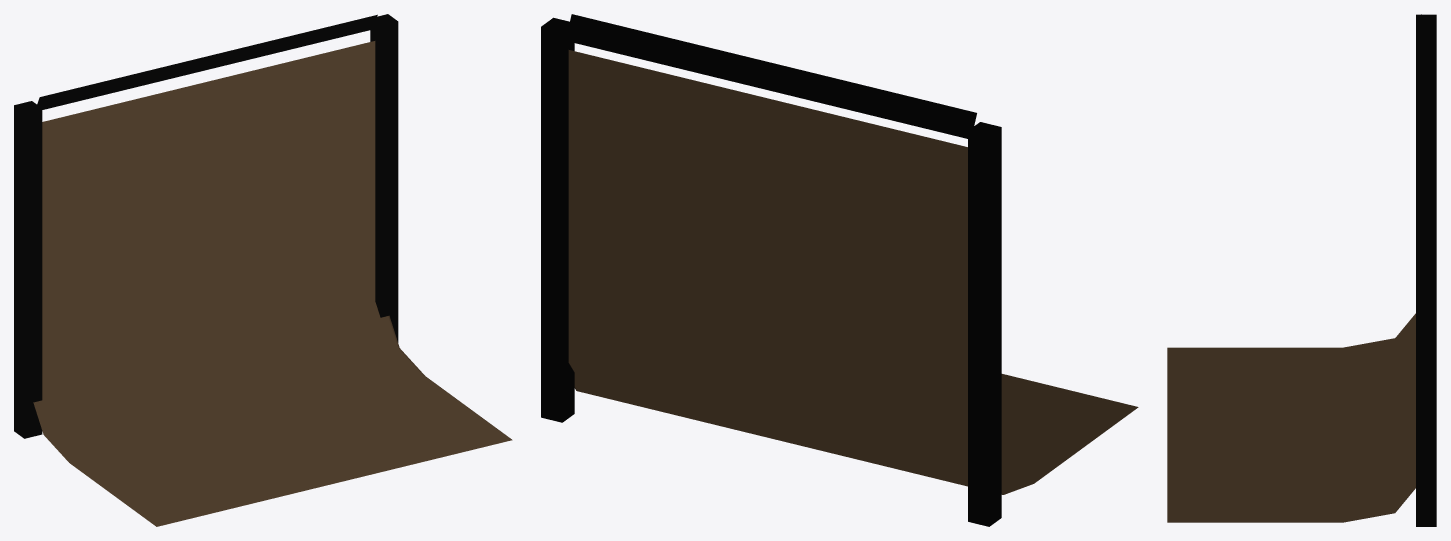
File: backdrop.obj
The picture shows the model from 3 angles, left to right: view 1: azimuth 30°, elevation 25°; view 2: azimuth 150°, elevation 25°; view 3: azimuth 270°, elevation 25°; orthographic projection. The views are drawn at different scales.
Visible parts, largest first — view 1: Backdrop_Setup; view 2: Backdrop_Setup; view 3: Backdrop_Setup.
Boxes of the visible parts, left/top/right/bottom form: Backdrop_Setup: left=14, top=14, right=512, bottom=526; Backdrop_Setup: left=541, top=14, right=1138, bottom=526; Backdrop_Setup: left=1167, top=14, right=1436, bottom=526.
Bounding box in the file's own units: 4.2 × 3.6 × 2.6.
Materials: 2 (2 with a texture image).
